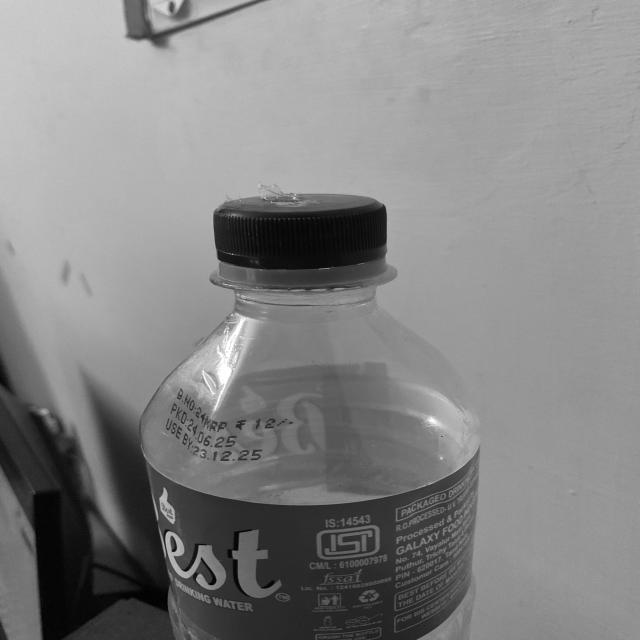Good-cap-Df0S: (207, 190, 398, 286)
